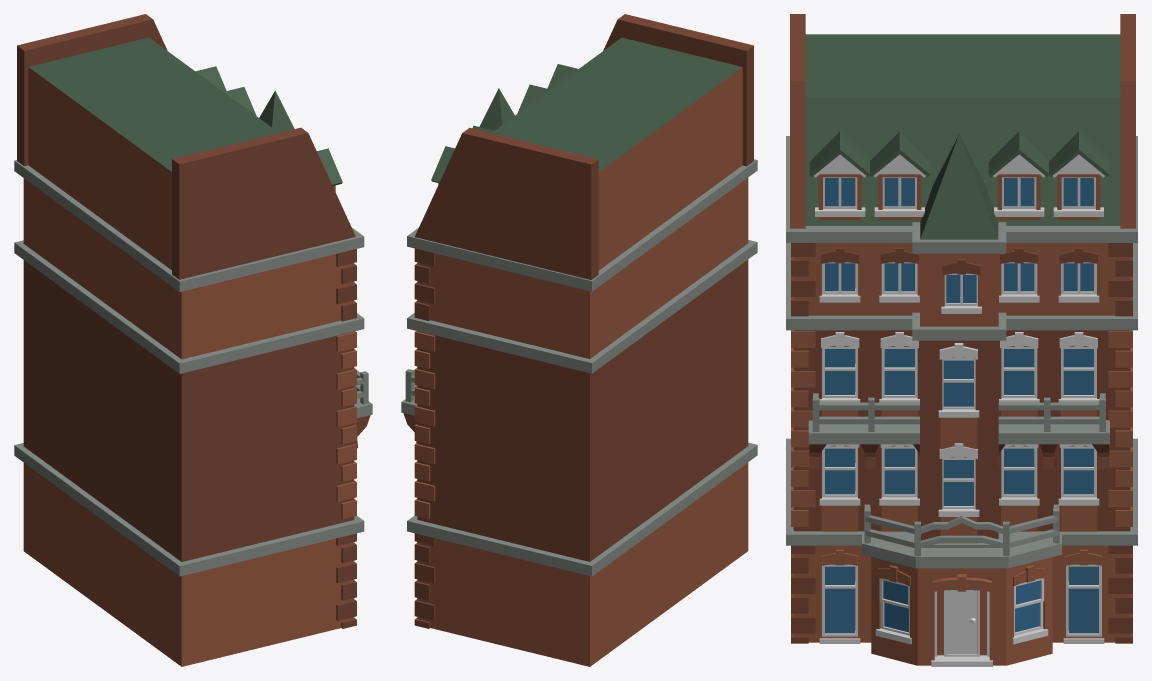
Rendered from House7.gltf.
The picture shows the model from 3 angles, left to right: view 1: azimuth 30°, elevation 25°; view 2: azimuth 150°, elevation 25°; view 3: azimuth 270°, elevation 25°; orthographic projection. The views are drawn at different scales.
Visible parts, largest first — view 1: House7; view 2: House7; view 3: House7.
Part boxes in pixels (bbox=[...]): House7: bbox=[14, 14, 372, 666]; House7: bbox=[401, 14, 757, 666]; House7: bbox=[786, 14, 1137, 666].
Bounding box in the file's own units: 8.09 × 17.08 × 10.14.
Materials: 2 (1 with a texture image).
